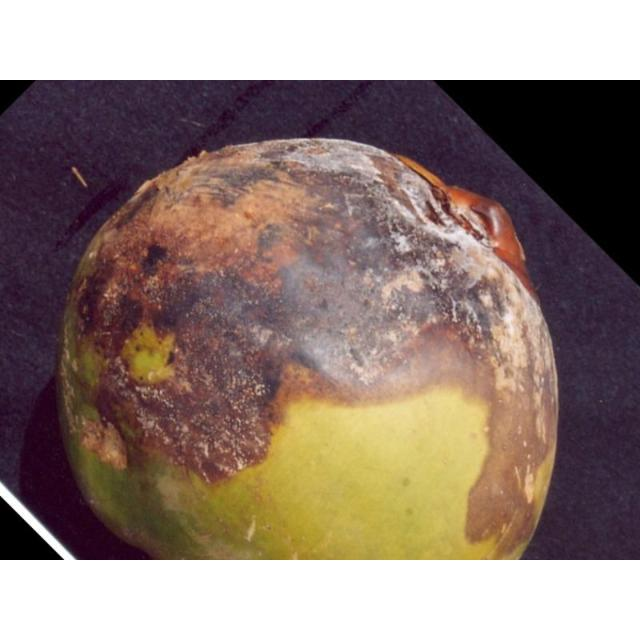damaged: (50, 138, 560, 559)
